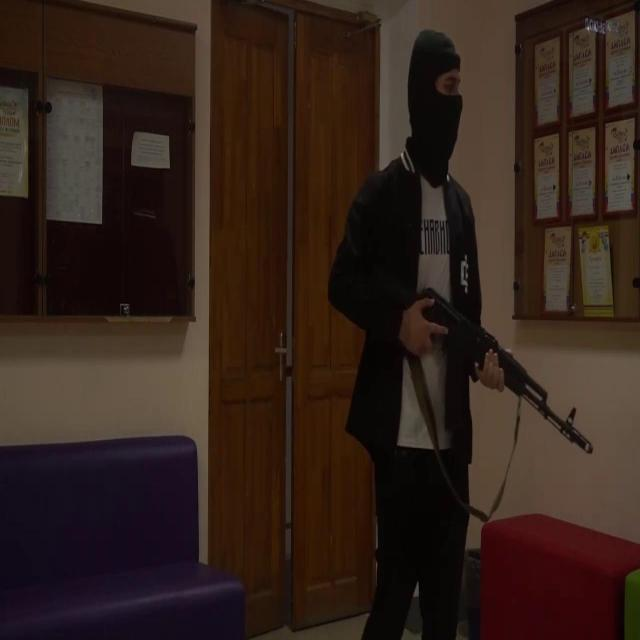pistol: (370, 255, 594, 457)
